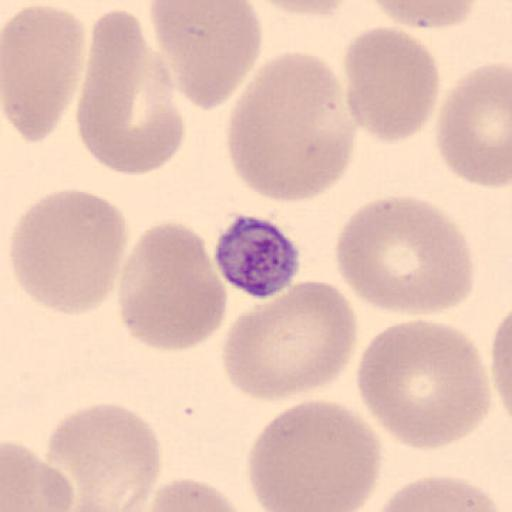Platelet: (212, 210, 303, 301)
RBC: (226, 51, 357, 203), (76, 6, 186, 176), (356, 318, 492, 449), (220, 279, 359, 402), (334, 195, 475, 316), (246, 398, 384, 512), (12, 188, 130, 318), (115, 220, 229, 354), (45, 402, 163, 512), (147, 0, 262, 111), (2, 4, 88, 144), (343, 25, 441, 144), (435, 60, 512, 190), (1, 438, 73, 512), (367, 474, 506, 512), (143, 476, 258, 512), (363, 0, 480, 31), (490, 309, 512, 423), (246, 0, 356, 18)
